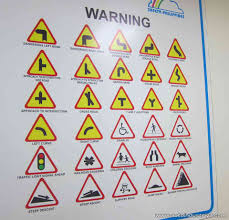Double_bend_left: (167, 62, 189, 85)
